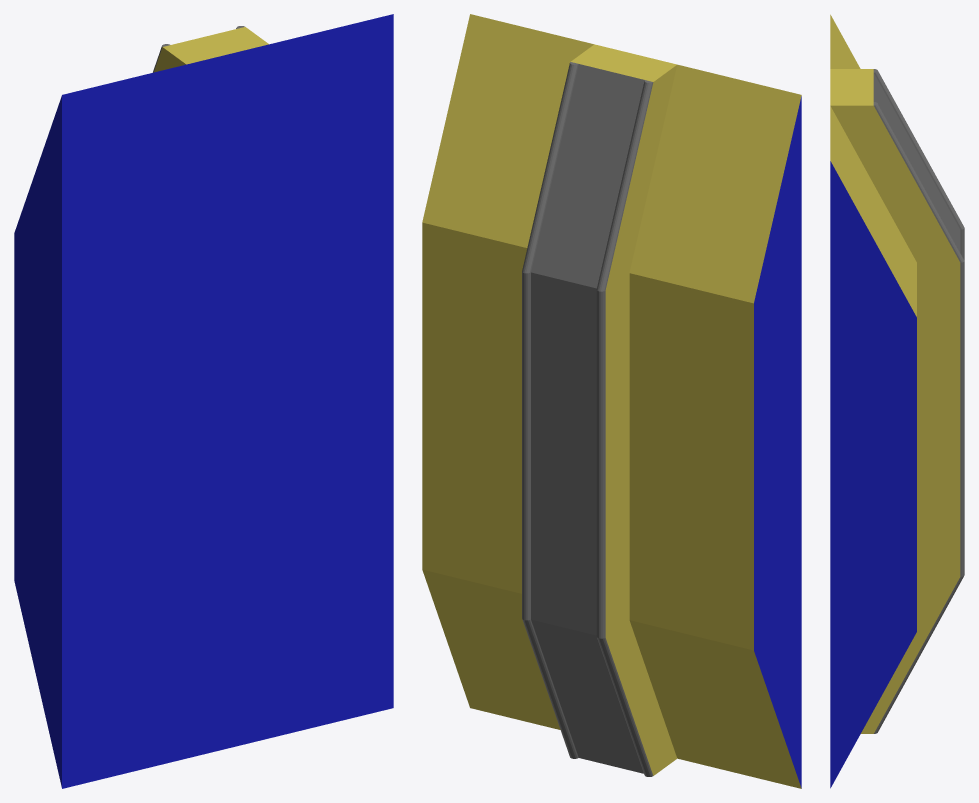
The model's file is Box W Box-Rail Middle.fbx.
3 renders of one model, left to right at view 1: azimuth 30°, elevation 25°; view 2: azimuth 150°, elevation 25°; view 3: azimuth 270°, elevation 25°, orthographic. The views are drawn at different scales.
Parts seen in each view (by area): view 1: Box W Box-Rail Middle; view 2: Box W Box-Rail Middle; view 3: Box W Box-Rail Middle.
Part boxes in pixels (left/top/right/bottom): Box W Box-Rail Middle: left=14, top=14, right=393, bottom=788; Box W Box-Rail Middle: left=422, top=14, right=801, bottom=788; Box W Box-Rail Middle: left=830, top=14, right=964, bottom=788.
Bounding box in the file's own units: 800 × 1600 × 310.
